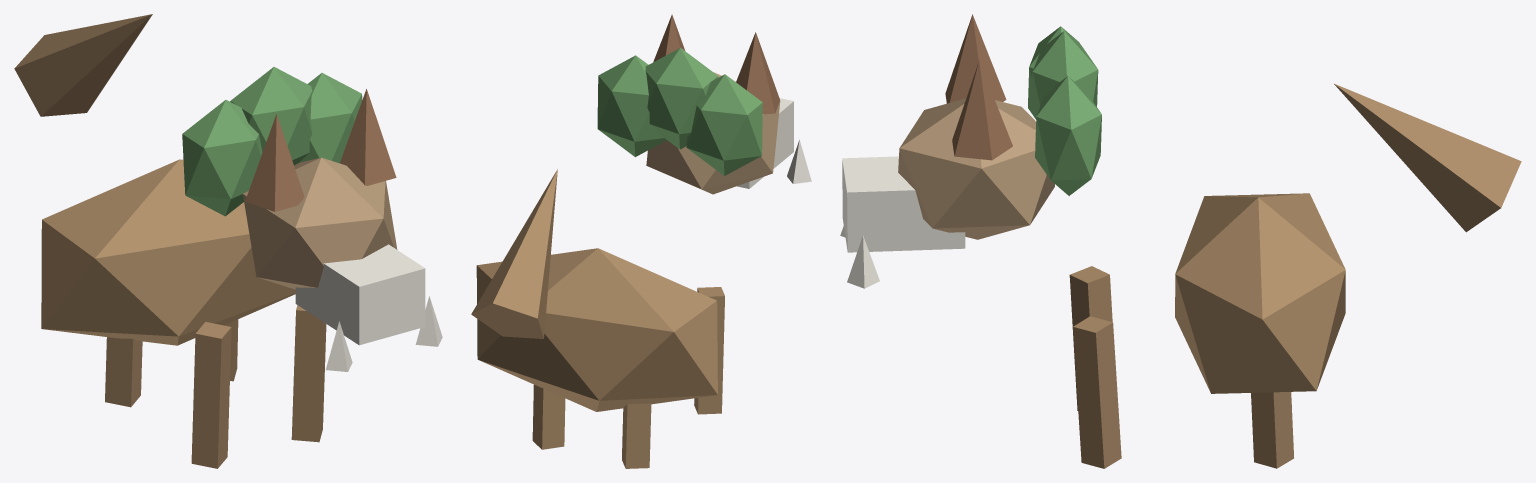
Rendered from npcpose_wolf_idle_02.glb.
The picture shows the model from 3 angles, left to right: view 1: azimuth 30°, elevation 25°; view 2: azimuth 150°, elevation 25°; view 3: azimuth 270°, elevation 25°; orthographic projection. The views are drawn at different scales.
Parts seen in each view (by area): view 1: npcpose; view 2: npcpose; view 3: npcpose.
Part boxes in pixels (left/top/right/bottom): npcpose: left=14, top=14, right=442, bottom=468; npcpose: left=471, top=14, right=811, bottom=468; npcpose: left=840, top=14, right=1521, bottom=468.
Size of the model in its own units: 0.8872 by 1.21 by 1.85.
